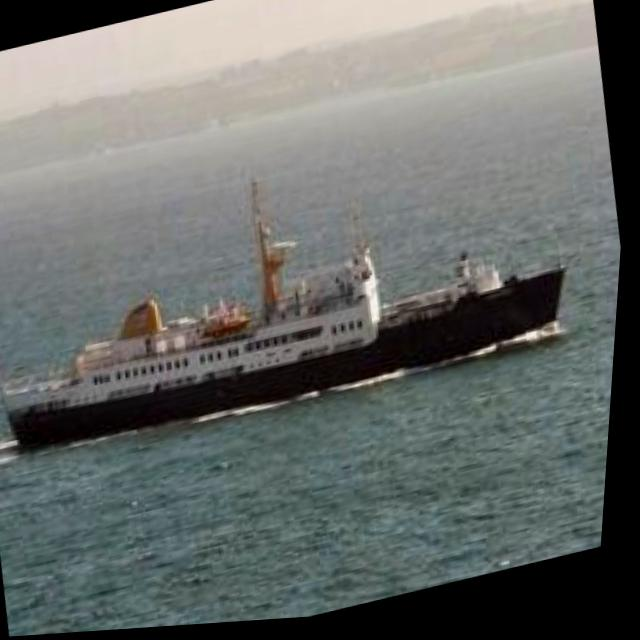ship2: (14, 185, 569, 453)
